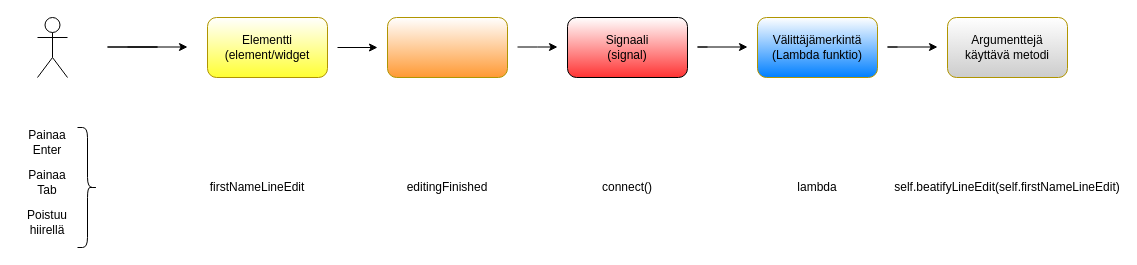
Image size: 1137x265. Some labels were removed from this diagram. Here are the shapes that lost their labels. From the top down, the centre of each, then its label:
At pixel 52 47: "Käyttäjän toiminpide".
At pixel 447 47: "Tapahtuma (event".
